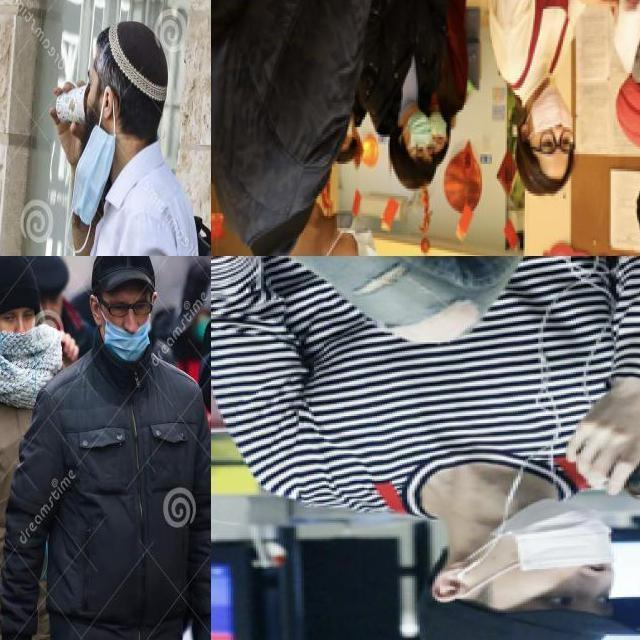hairnet: (442, 492, 616, 597), (101, 307, 154, 363)
